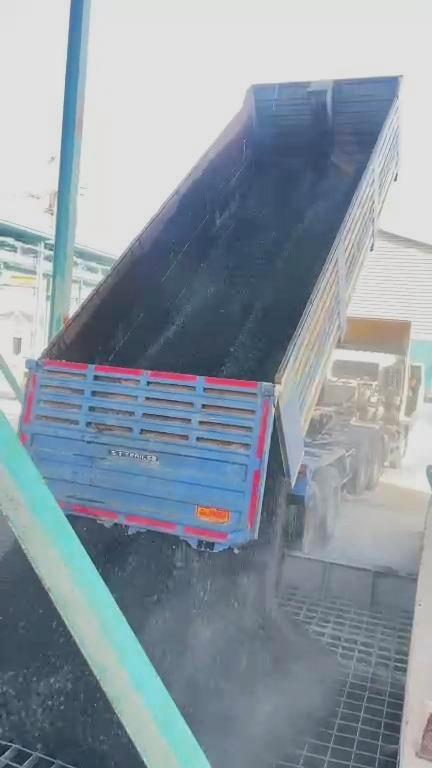gravel: (74, 434, 339, 767), (142, 156, 354, 380), (0, 544, 142, 767)
